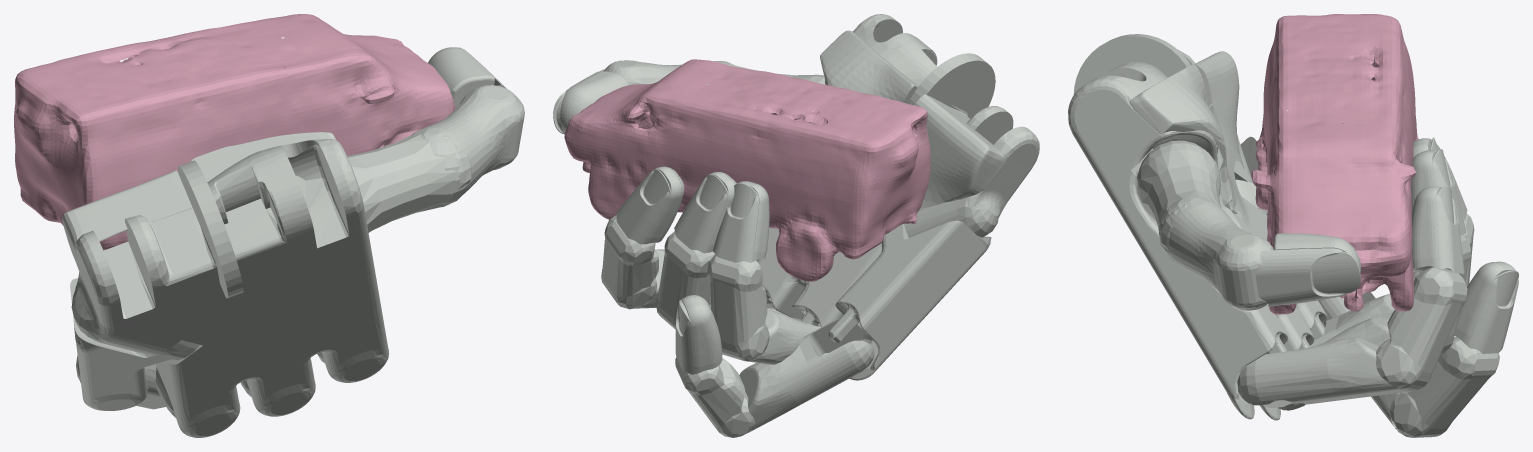
3 views of the same model, side by side, from view 1: azimuth 30°, elevation 25°; view 2: azimuth 150°, elevation 25°; view 3: azimuth 270°, elevation 25° (orthographic). The views are drawn at different scales.
Parts seen in each view (by area): view 1: hand, world; view 2: hand, world; view 3: hand, world.
Boxes of the visible parts, left/top/right/bottom form: hand: left=62, top=47, right=524, bottom=437; world: left=14, top=14, right=454, bottom=249; hand: left=553, top=14, right=1039, bottom=437; world: left=564, top=59, right=930, bottom=281; hand: left=1068, top=34, right=1518, bottom=437; world: left=1251, top=14, right=1418, bottom=314.
Bounding box in the file's own units: 0.1558 × 0.1198 × 0.1374.
